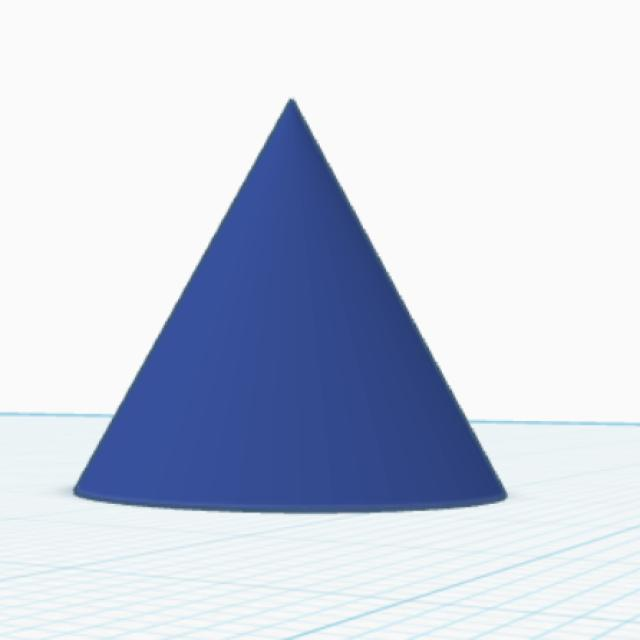cone: (70, 94, 512, 516)
